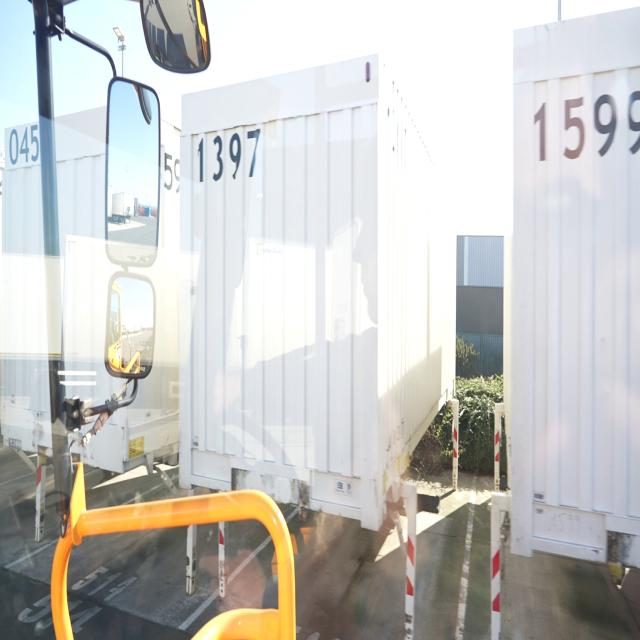Code: (529, 88, 640, 166), (197, 125, 264, 188)
